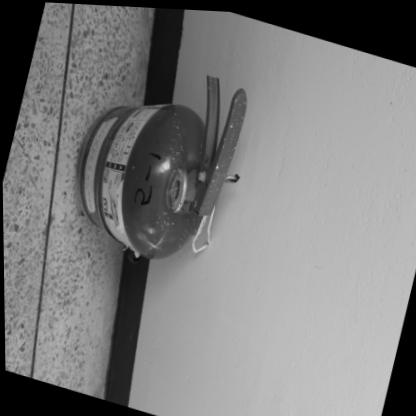FE: (60, 39, 255, 275)
